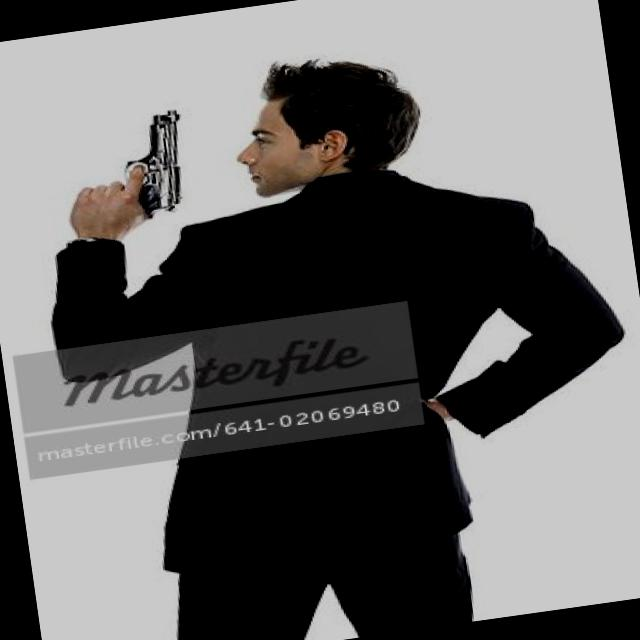handgun: (42, 100, 212, 237)
